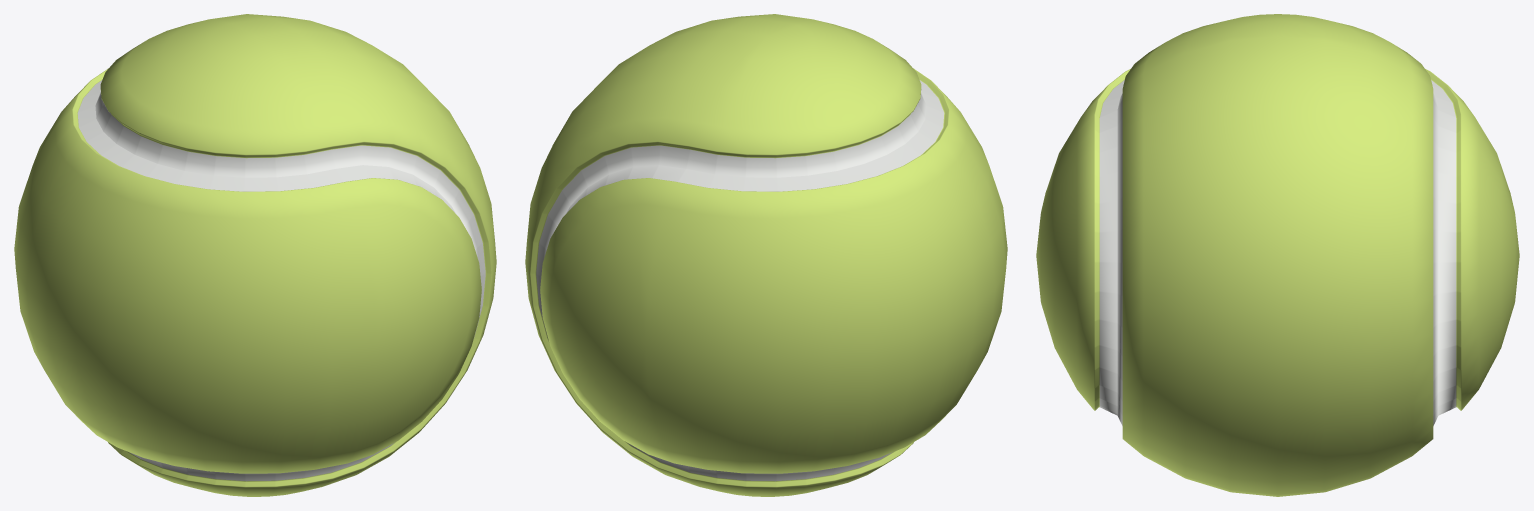
The model's file is ball.glb.
3 views of the same model, side by side, from view 1: azimuth 30°, elevation 25°; view 2: azimuth 150°, elevation 25°; view 3: azimuth 270°, elevation 25° (orthographic).
Visible parts, largest first — view 1: Sphere; view 2: Sphere; view 3: Sphere.
Boxes of the visible parts, bbox=[...] form: Sphere: bbox=[14, 14, 496, 496]; Sphere: bbox=[525, 14, 1007, 496]; Sphere: bbox=[1036, 14, 1519, 496].
Bounding box in the file's own units: 2 × 2 × 2.
